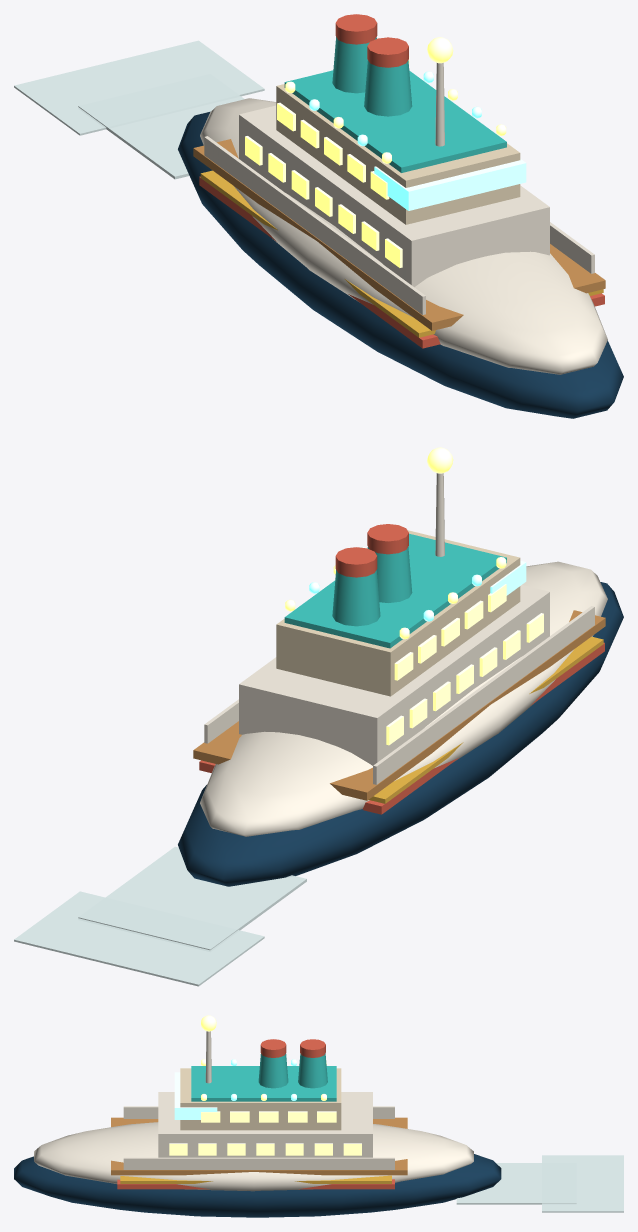
The model's file is passenger-liner.glb.
The picture shows the model from 3 angles, top to bottom: view 1: azimuth 30°, elevation 25°; view 2: azimuth 150°, elevation 25°; view 3: azimuth 270°, elevation 25°; orthographic projection. The views are drawn at different scales.
Visible parts, largest first — view 1: Mesh_warmWhite, Mesh_navy, Mesh_waterFoam, Mesh_turquoise, Mesh_cream, Mesh_glowWarm, Mesh_glowCyan, Mesh_lightWood, Mesh_coral, Mesh_gold; view 2: Mesh_warmWhite, Mesh_waterFoam, Mesh_navy, Mesh_turquoise, Mesh_cream, Mesh_glowWarm, Mesh_lightWood, Mesh_coral, Mesh_gold, Mesh_glowCyan; view 3: Mesh_warmWhite, Mesh_navy, Mesh_waterFoam, Mesh_turquoise, Mesh_cream, Mesh_glowWarm, Mesh_lightWood, Mesh_coral, Mesh_gold, Mesh_glowCyan.
Boxes of the visible parts, left/top/right/bottom form: Mesh_warmWhite: left=200, top=63, right=607, bottom=374; Mesh_navy: left=178, top=111, right=623, bottom=418; Mesh_waterFoam: left=14, top=40, right=264, bottom=179; Mesh_turquoise: left=284, top=37, right=506, bottom=172; Mesh_cream: left=276, top=84, right=520, bottom=224; Mesh_glowWarm: left=245, top=37, right=506, bottom=267; Mesh_glowCyan: left=309, top=71, right=526, bottom=210; Mesh_lightWood: left=193, top=139, right=605, bottom=330; Mesh_coral: left=199, top=14, right=604, bottom=348; Mesh_gold: left=200, top=170, right=603, bottom=337; Mesh_warmWhite: left=200, top=473, right=607, bottom=836; Mesh_waterFoam: left=14, top=846, right=306, bottom=986; Mesh_navy: left=178, top=582, right=623, bottom=886; Mesh_turquoise: left=284, top=533, right=506, bottom=648; Mesh_cream: left=276, top=530, right=520, bottom=696; Mesh_glowWarm: left=285, top=447, right=543, bottom=745; Mesh_lightWood: left=193, top=610, right=605, bottom=800; Mesh_coral: left=199, top=524, right=604, bottom=814; Mesh_gold: left=369, top=636, right=603, bottom=803; Mesh_glowCyan: left=309, top=546, right=526, bottom=621; Mesh_warmWhite: left=34, top=1031, right=473, bottom=1191; Mesh_navy: left=14, top=1154, right=501, bottom=1217; Mesh_waterFoam: left=456, top=1155, right=623, bottom=1212; Mesh_turquoise: left=191, top=1053, right=336, bottom=1101; Mesh_cream: left=180, top=1068, right=341, bottom=1130; Mesh_glowWarm: left=169, top=1015, right=361, bottom=1155; Mesh_lightWood: left=111, top=1117, right=407, bottom=1175; Mesh_coral: left=117, top=1039, right=394, bottom=1189; Mesh_gold: left=120, top=1175, right=391, bottom=1183; Mesh_glowCyan: left=174, top=1059, right=296, bottom=1119.
Size of the model in its own units: 4.62 by 6.61 by 19.32.
